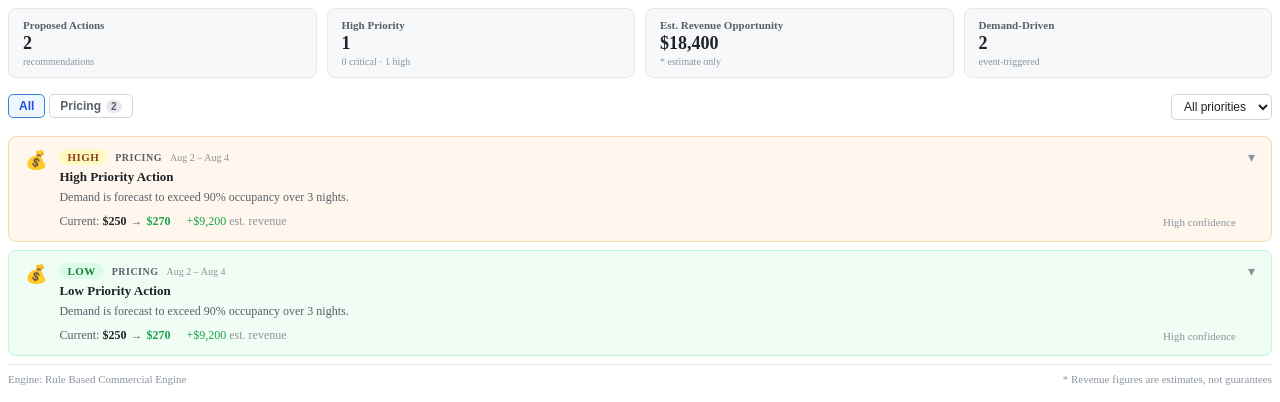
RecommendationsPanel › filters by priority dropdown
Step 1. Select "High" in the dropdown named "Filter by priority" → (1222, 107), box x1=1171 y1=94 x2=1272 y2=120
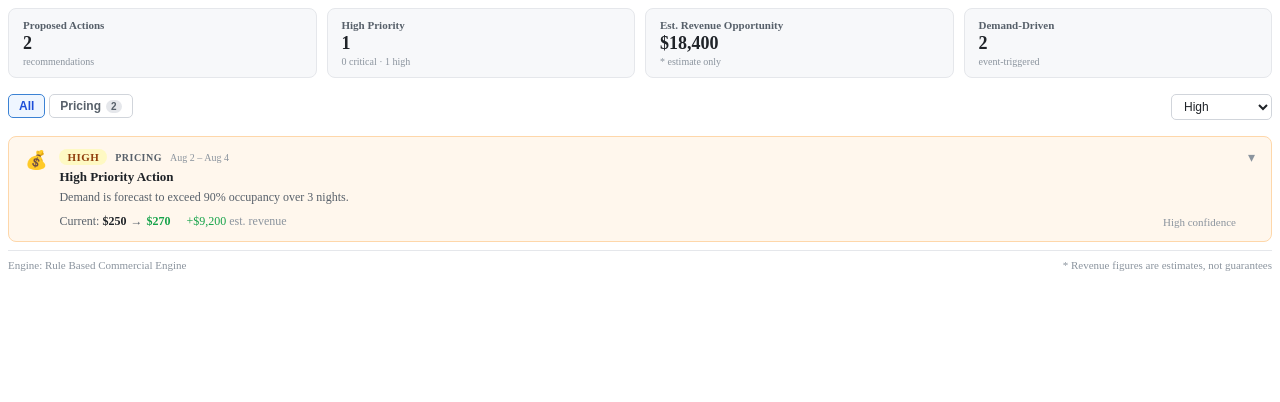
Expected: the text "High Priority Action" is shown, x1=60 y1=169 x2=174 y2=184
Result: the button "Low Priority Action" is gone
